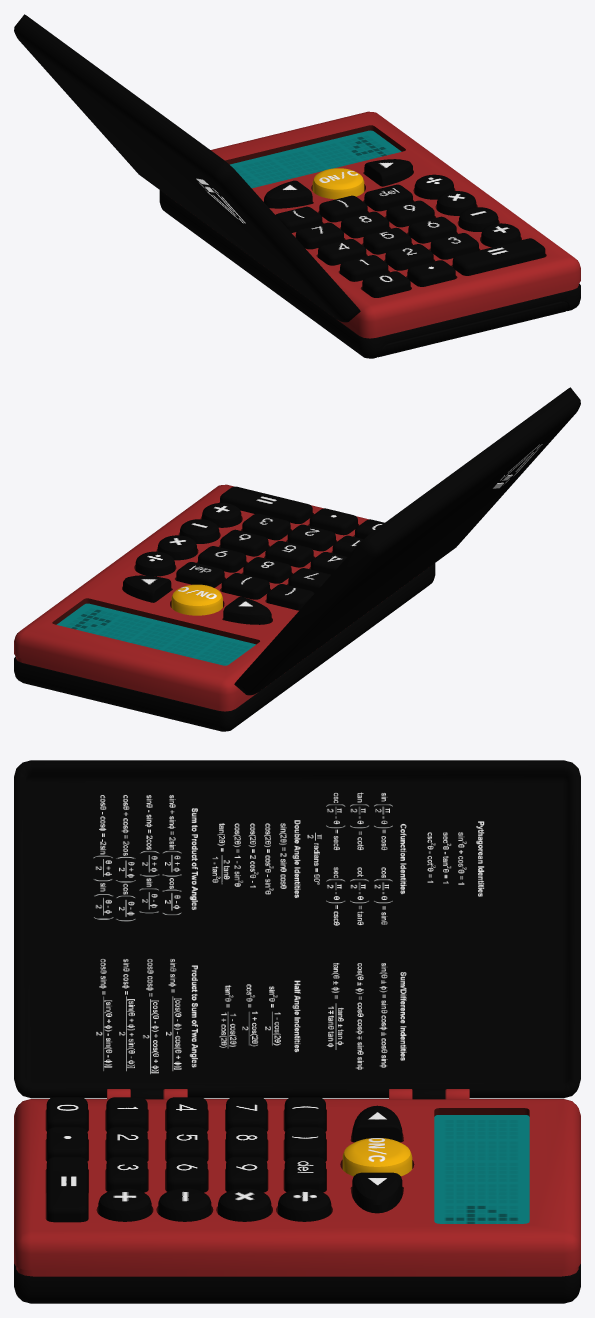
File: calculator.glb
The picture shows the model from 3 angles, top to bottom: view 1: azimuth 30°, elevation 25°; view 2: azimuth 150°, elevation 25°; view 3: azimuth 270°, elevation 25°; orthographic projection. The views are drawn at different scales.
Parts seen in each view (by area): view 1: lid, base, bottom, display, button-equals, button-clear, button-left, button-right, button-0, button-dot, button-9, button-8 (+14 smaller); view 2: base, lid, bottom, display, button-equals, button-clear, button-left, button-right, button-close, button-3, button-6, button-2 (+12 smaller); view 3: info, lid, base, bottom, display, button-equals, button-clear, button-right, button-divide, button-multiply, button-subtract, button-add (+17 smaller).
Part boxes in pixels (left/top/right/bottom): lid: left=14, top=14, right=360, bottom=322; base: left=211, top=111, right=580, bottom=338; bottom: left=159, top=190, right=580, bottom=358; display: left=230, top=130, right=401, bottom=188; button-equals: left=452, top=238, right=545, bottom=275; button-clear: left=312, top=168, right=364, bottom=199; button-left: left=264, top=180, right=312, bottom=208; button-right: left=364, top=159, right=412, bottom=186; button-0: left=362, top=271, right=410, bottom=297; button-dot: left=407, top=260, right=455, bottom=286; button-9: left=386, top=200, right=434, bottom=227; button-8: left=341, top=211, right=389, bottom=238; base: left=14, top=484, right=368, bottom=711; lid: left=234, top=387, right=580, bottom=695; bottom: left=14, top=563, right=435, bottom=731; display: left=56, top=603, right=255, bottom=665; button-equals: left=220, top=486, right=312, bottom=523; button-clear: left=171, top=584, right=222, bottom=615; button-left: left=223, top=597, right=271, bottom=624; button-right: left=123, top=575, right=171, bottom=602; button-close: left=221, top=573, right=269, bottom=599; button-3: left=242, top=513, right=290, bottom=540; button-6: left=220, top=529, right=268, bottom=556; button-2: left=287, top=524, right=335, bottom=551; info: left=85, top=781, right=493, bottom=1081; lid: left=14, top=760, right=580, bottom=1098; base: left=14, top=1099, right=580, bottom=1276; bottom: left=14, top=1264, right=580, bottom=1303; display: left=434, top=1115, right=529, bottom=1223; button-equals: left=46, top=1157, right=87, bottom=1222; button-clear: left=342, top=1138, right=412, bottom=1176; button-right: left=352, top=1172, right=402, bottom=1213; button-divide: left=278, top=1188, right=331, bottom=1221; button-multiply: left=218, top=1188, right=271, bottom=1221; button-subtract: left=158, top=1188, right=211, bottom=1221; button-add: left=98, top=1188, right=151, bottom=1221.
Size of what is drawn, in the model's own units: 3.71 by 2.28 by 3.69.
11 materials, 4 textured.
